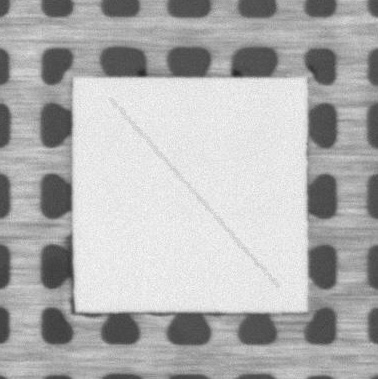DIE_CRACK: (110, 98, 277, 287)
